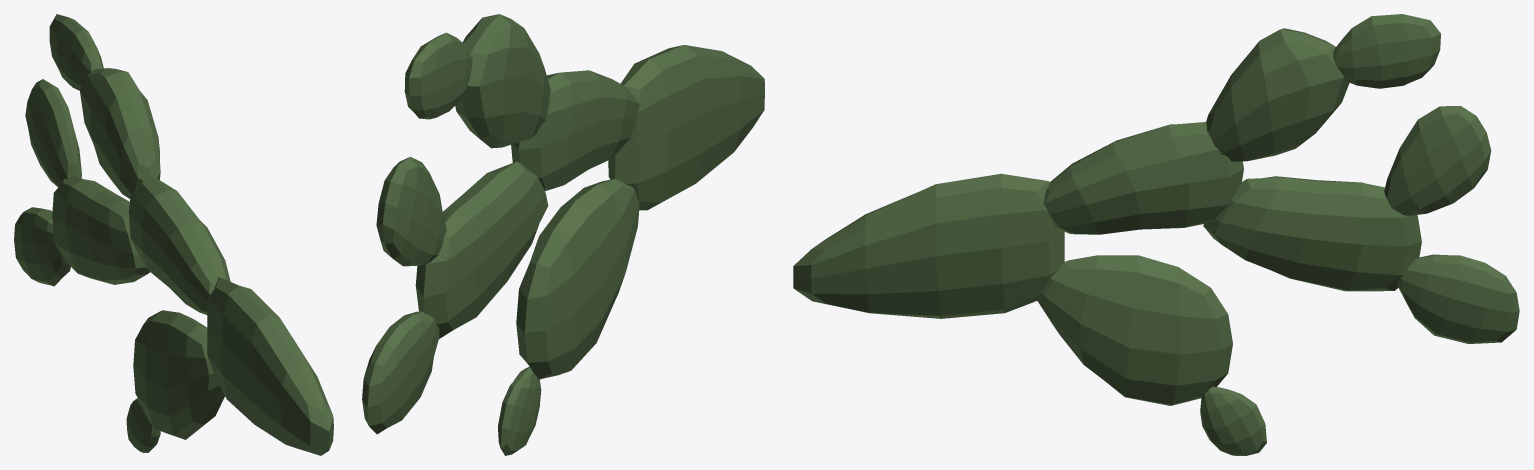
The model's file is Cactus_4.fbx.
The picture shows the model from 3 angles, left to right: view 1: azimuth 30°, elevation 25°; view 2: azimuth 150°, elevation 25°; view 3: azimuth 270°, elevation 25°; orthographic projection. The views are drawn at different scales.
Visible parts, largest first — view 1: Cactus_4; view 2: Cactus_4; view 3: Cactus_4.
Part boxes in pixels (box(x1,y1,x2,y2)): Cactus_4: box(14, 14, 333, 455); Cactus_4: box(362, 14, 764, 455); Cactus_4: box(793, 14, 1519, 455).
Bounding box in the file's own units: 11 × 91.91 × 137.
